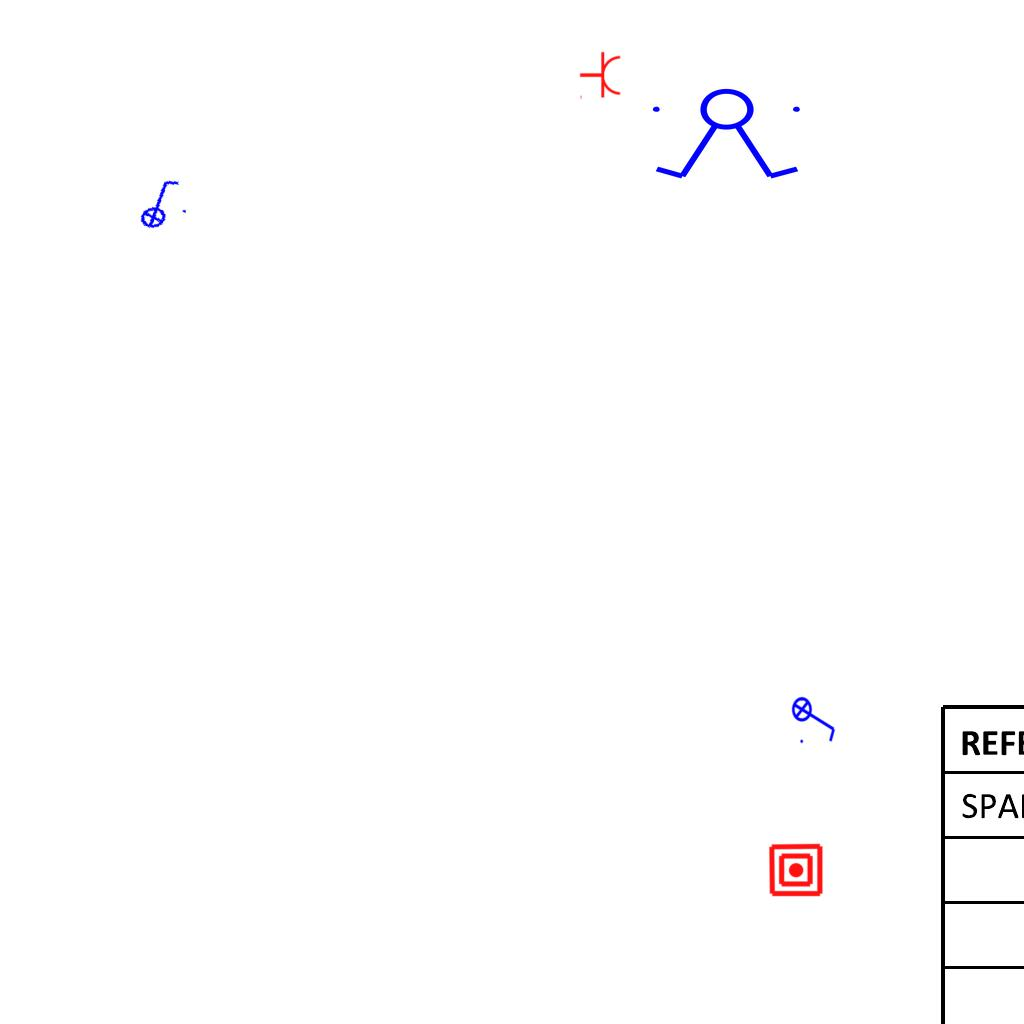Ausschalter_beleuchtet: (126, 173, 192, 233), (791, 690, 839, 746)
NAM-Nichtautomatischer_Melder: (768, 842, 824, 898)
Schukosteckdose_einfach: (579, 51, 622, 101)
Serienschalter: (644, 87, 812, 183)
